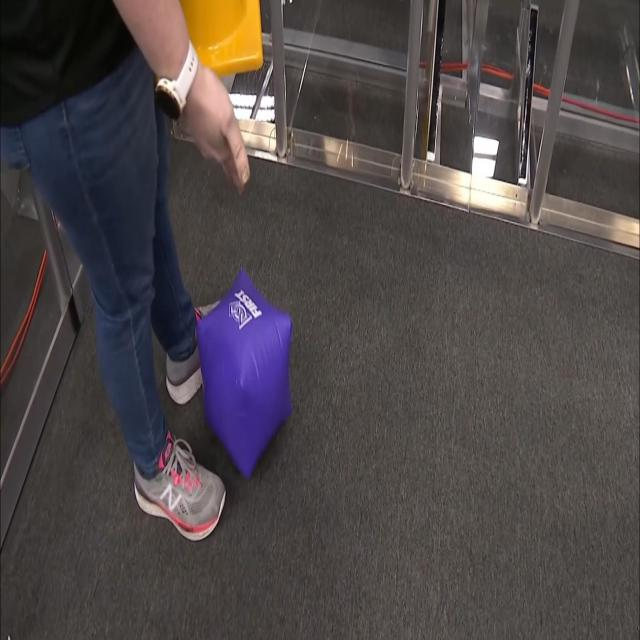frc_cone: (151, 0, 263, 92)
frc_cube: (194, 272, 293, 473)
